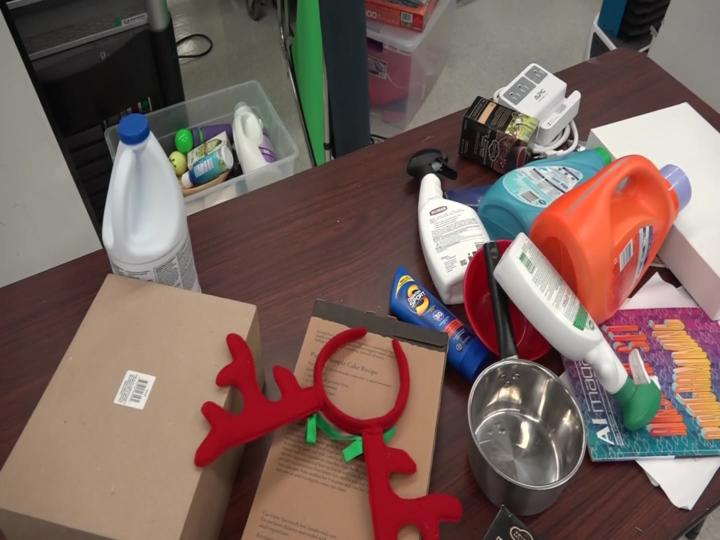downy: (465, 137, 624, 271)
